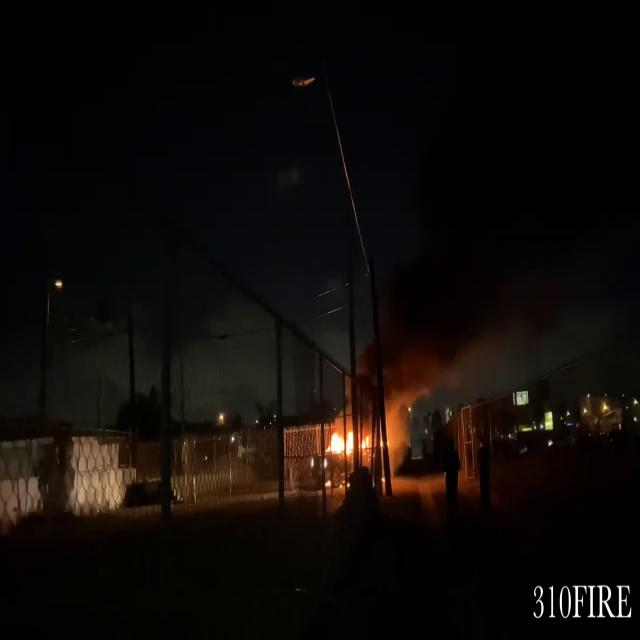Fire: (323, 414, 371, 472)
